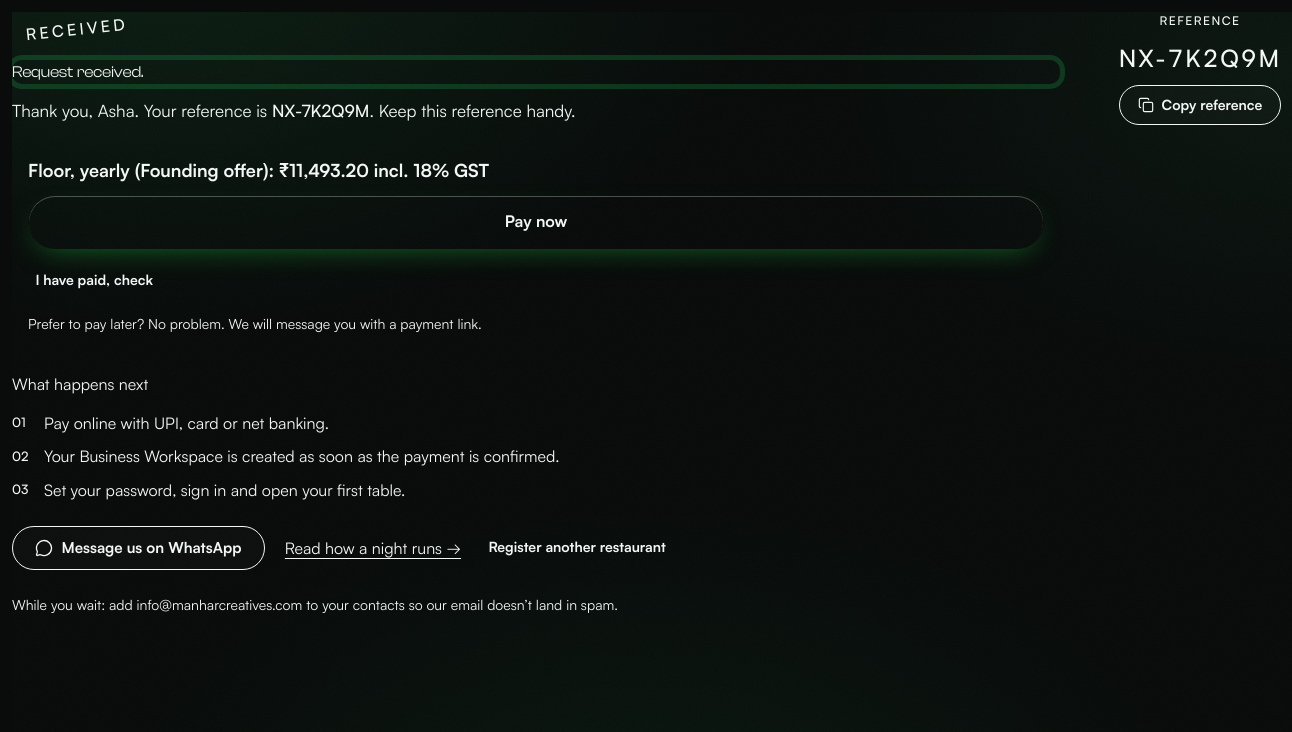
it: RegistrationTicket: claim the account after paying › without a payer secret: explains the other device, offers WhatsApp, never asks the server for a link
Step 1. Click the button "I have paid, check" → (94, 281), box [28, 261, 160, 301]
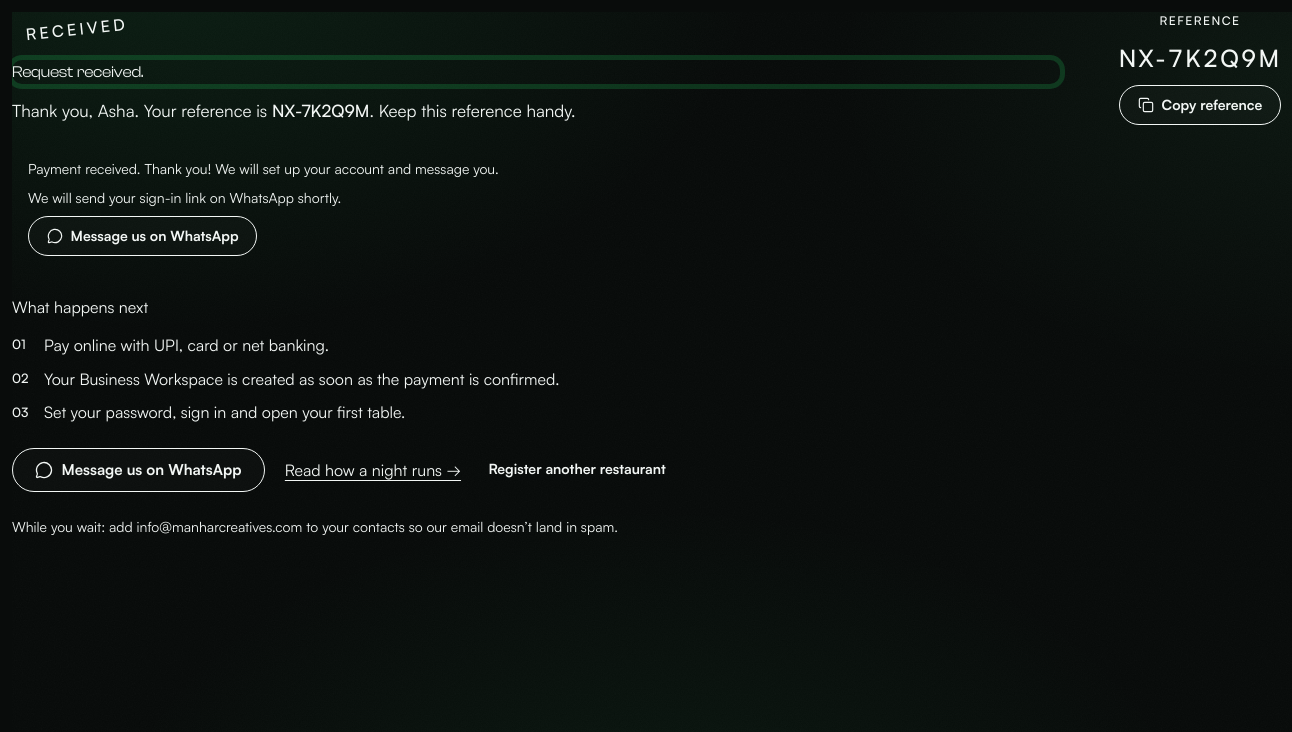
Now the element with test id "claim" shows "We will send your sign-in link on WhatsApp shortly.", box [28, 189, 341, 206]
Now the element with test id "pay-now" shows "Payment received. Thank you! We will set up your account and message you.", box [28, 160, 499, 177]
